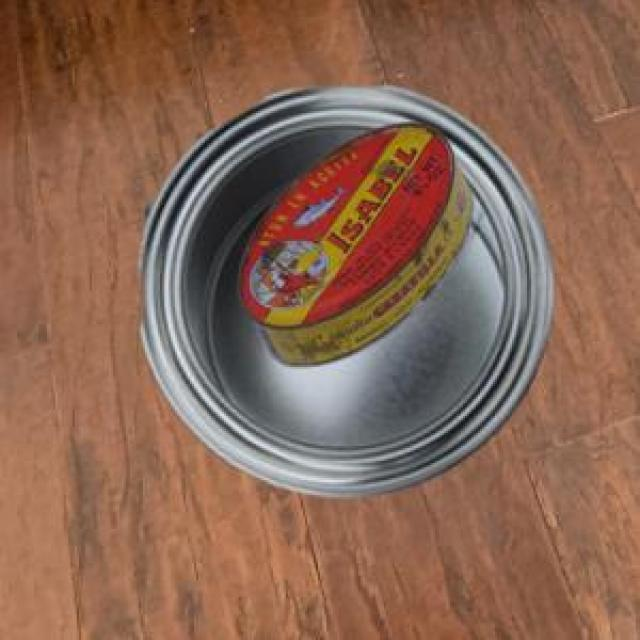Can: (138, 84, 549, 494), (236, 121, 470, 364)
